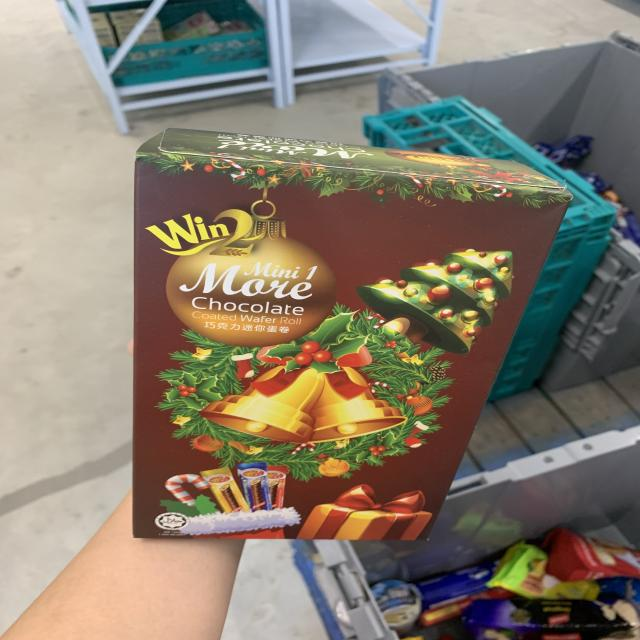object_name: (133, 162, 436, 539)
